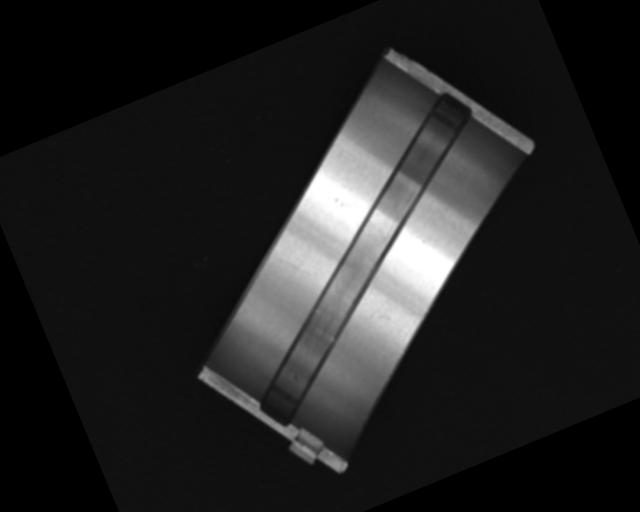gap: (176, 85, 554, 430)
nick: (277, 248, 311, 285)
